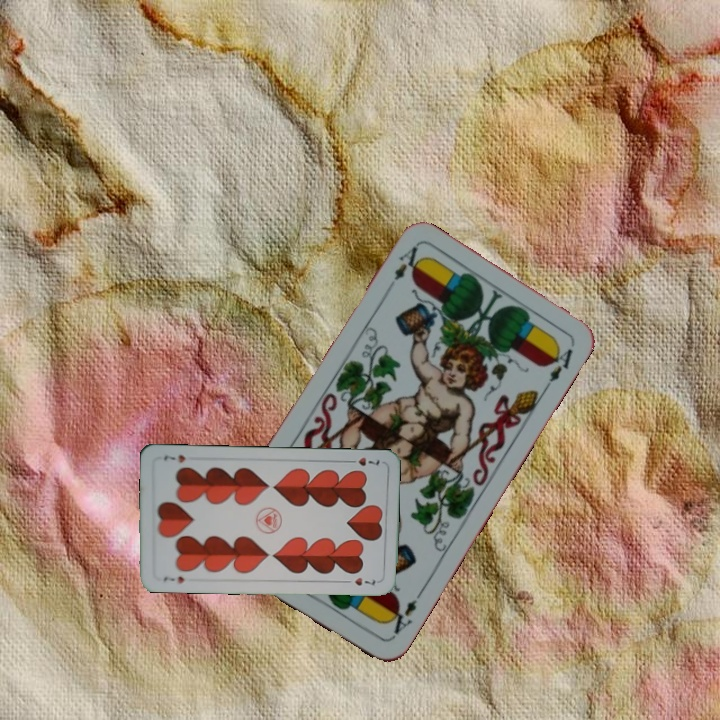EA: (382, 587, 426, 640), (389, 242, 421, 283)
H7: (343, 453, 383, 468), (159, 572, 187, 586)
